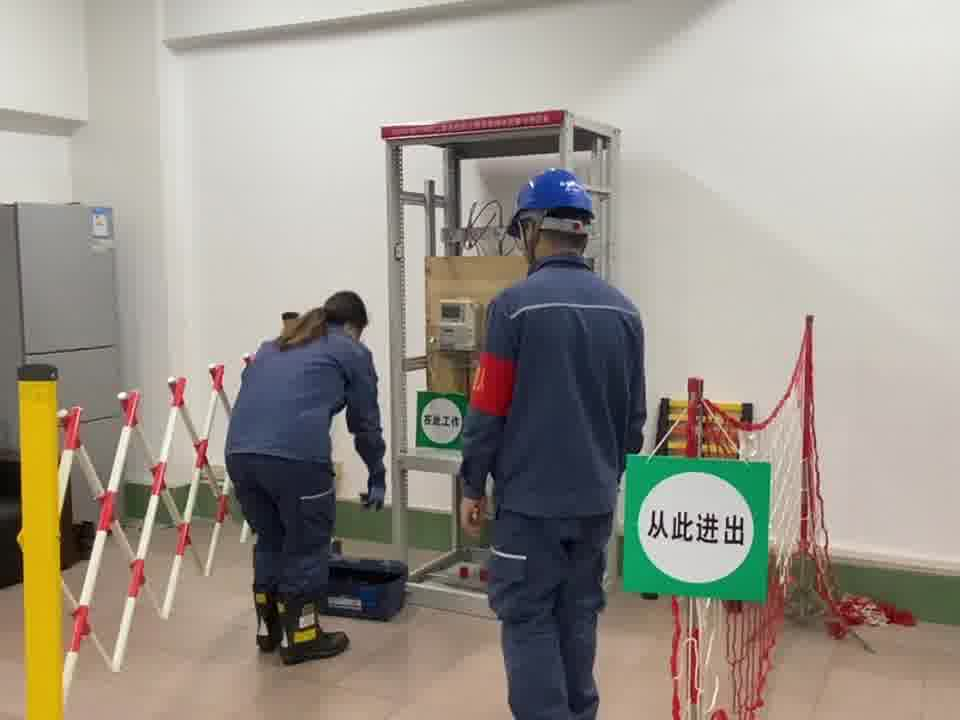halt: (512, 172, 601, 263)
inear: (516, 217, 548, 264)
unhalt: (323, 294, 373, 341)
